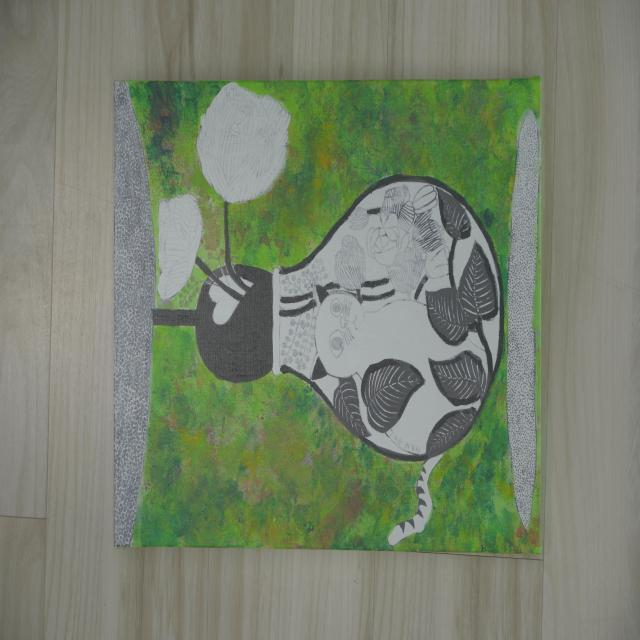painting: (115, 78, 541, 554)
